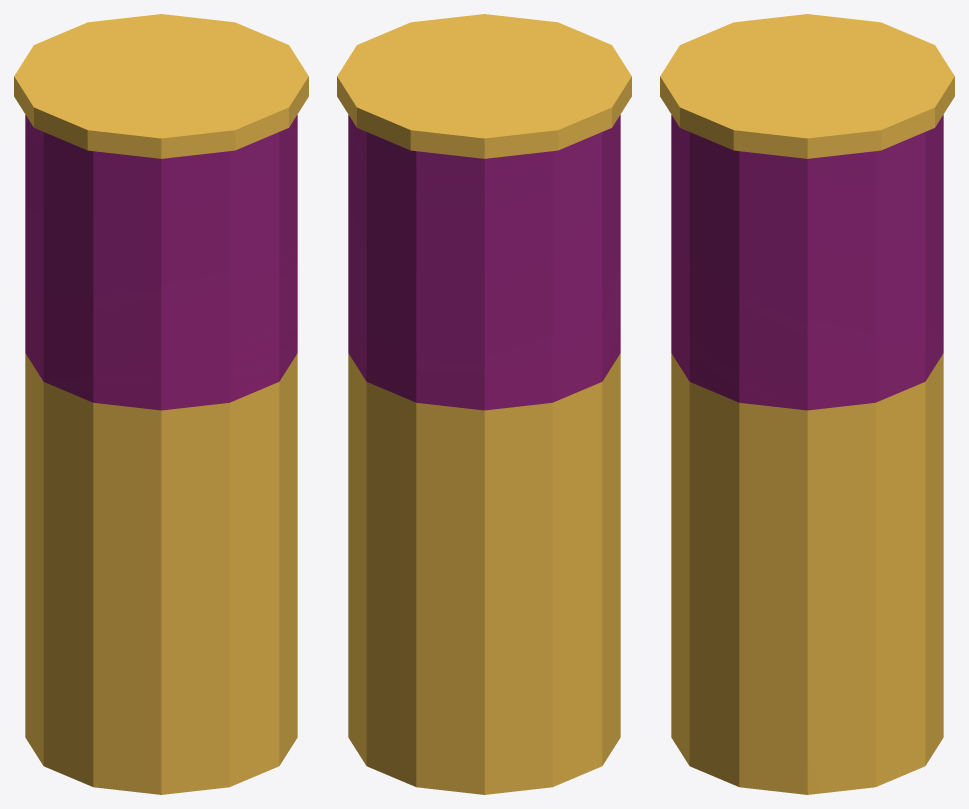
The model's file is Ürün39.fbx.
The picture shows the model from 3 angles, left to right: view 1: azimuth 30°, elevation 25°; view 2: azimuth 150°, elevation 25°; view 3: azimuth 270°, elevation 25°; orthographic projection.
Parts seen in each view (by area): view 1: pCylinder24; view 2: pCylinder24; view 3: pCylinder24.
Part boxes in pixels (x1,y1,x2,y2): pCylinder24: (14,14,308,794); pCylinder24: (337,14,631,794); pCylinder24: (660,14,954,794).
Bounding box in the file's own units: 11.6 × 28.73 × 11.6.
